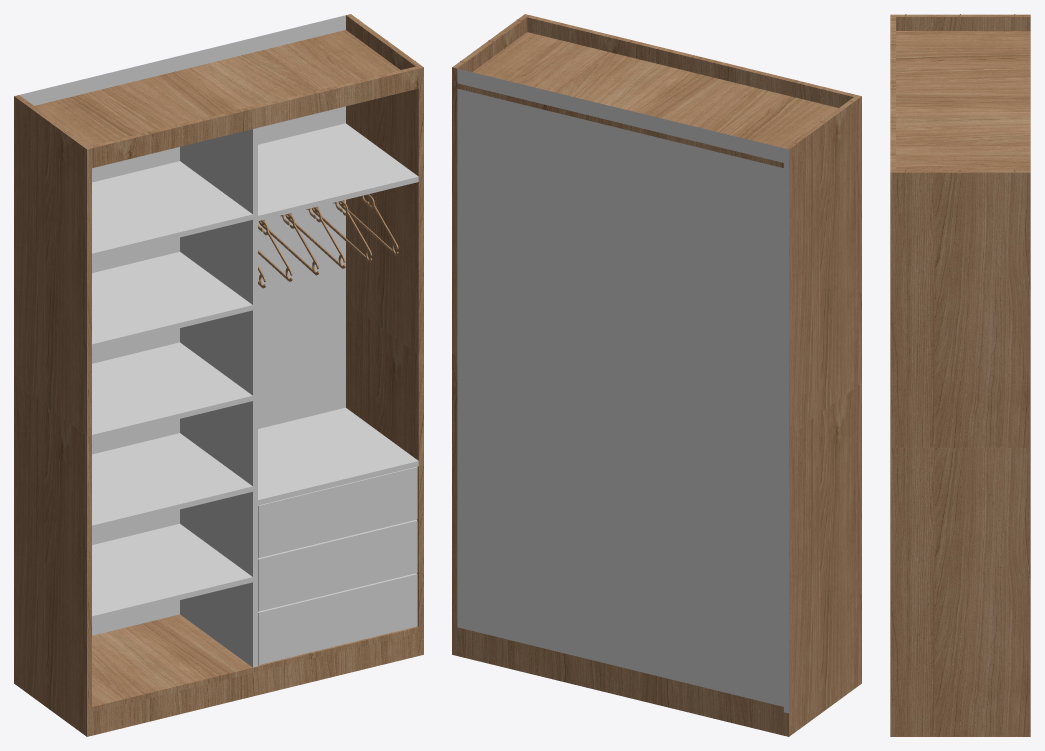
Rendered from Sin título.glb.
3 renders of one model, left to right at view 1: azimuth 30°, elevation 25°; view 2: azimuth 150°, elevation 25°; view 3: azimuth 270°, elevation 25°, orthographic. The views are drawn at different scales.
Parts seen in each view (by area): view 1: root; view 2: root; view 3: root.
Part boxes in pixels (<box>): root: <box>14,14,423,736</box>; root: <box>452,14,861,736</box>; root: <box>890,14,1030,736</box>.
Bounding box in the file's own units: 1.2 × 2 × 0.45.
Materials: 2 (1 with a texture image).
